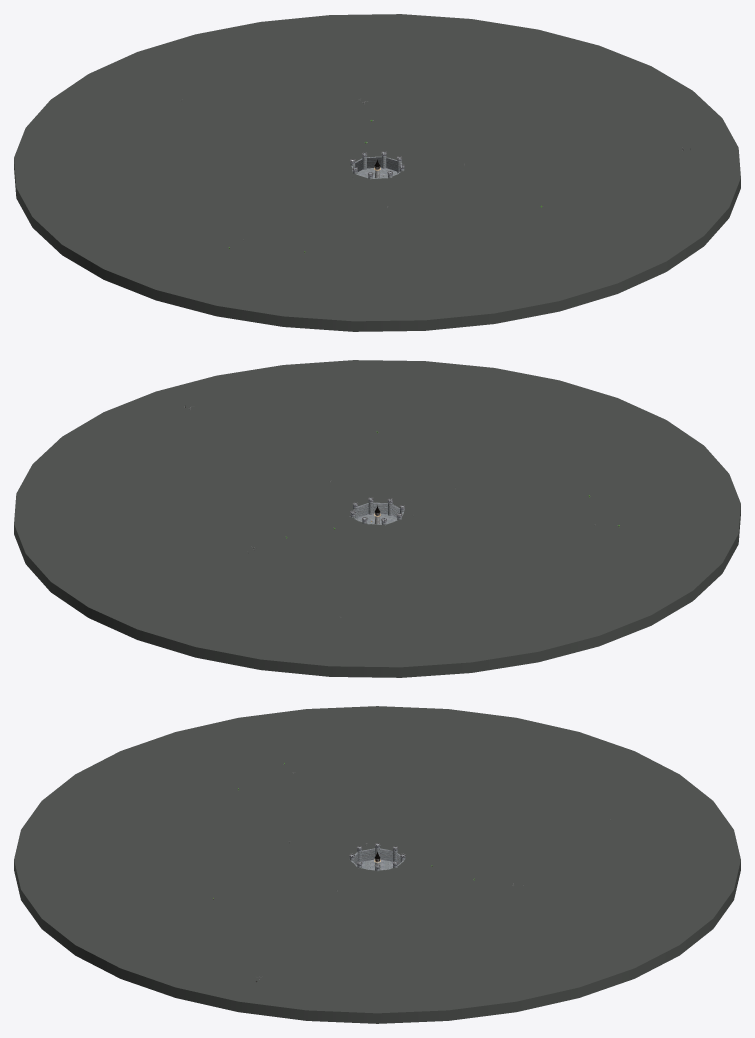
File: stage.fbx
The picture shows the model from 3 angles, top to bottom: view 1: azimuth 30°, elevation 25°; view 2: azimuth 150°, elevation 25°; view 3: azimuth 270°, elevation 25°; orthographic projection.
Visible parts, largest first — view 1: background2; view 2: background2; view 3: background2.
Part boxes in pixels (left/top/right/bottom): background2: left=14, top=14, right=740, bottom=331; background2: left=14, top=360, right=740, bottom=677; background2: left=14, top=706, right=740, bottom=1023.
Bounding box in the file's own units: 100000 × 2873 × 100000.
Materials: 34 (23 with a texture image).
